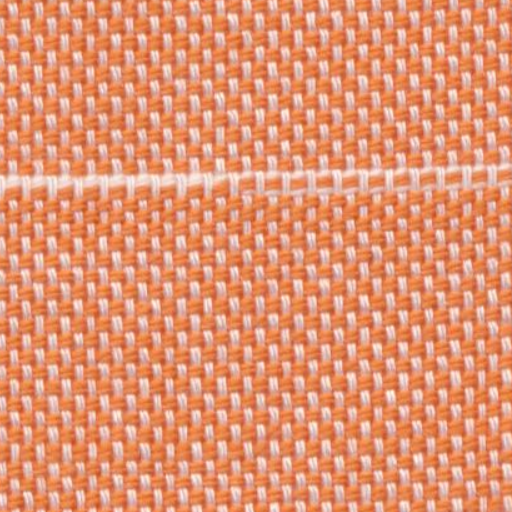TuoSha: (17, 110, 498, 228)
